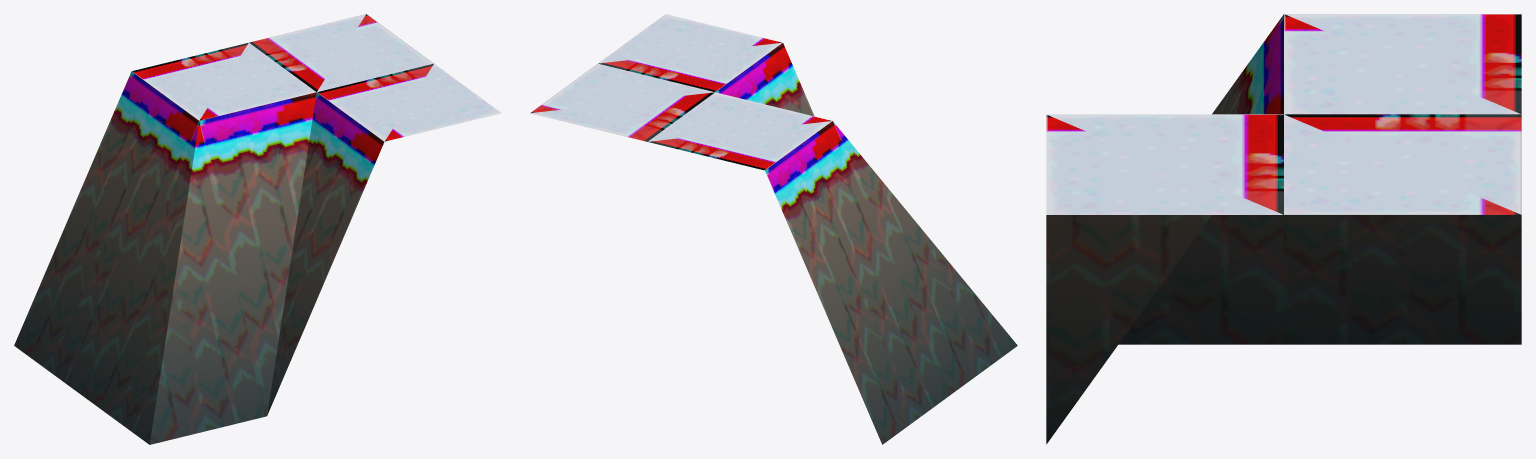
File: arch_winter_wall_cornerOutIn_right.FBX
3 views of the same model, side by side, from view 1: azimuth 30°, elevation 25°; view 2: azimuth 150°, elevation 25°; view 3: azimuth 270°, elevation 25° (orthographic). The views are drawn at different scales.
Visible parts, largest first — view 1: arch_winter_wall_cornerOutIn_right; view 2: arch_winter_wall_cornerOutIn_right; view 3: arch_winter_wall_cornerOutIn_right.
Boxes of the visible parts, x1,y1,x2,y2 form: arch_winter_wall_cornerOutIn_right: [14, 14, 501, 444]; arch_winter_wall_cornerOutIn_right: [530, 14, 1017, 444]; arch_winter_wall_cornerOutIn_right: [1046, 14, 1521, 444].
Bounding box in the file's own units: 6 × 4 × 4.
1 material, 1 textured.
